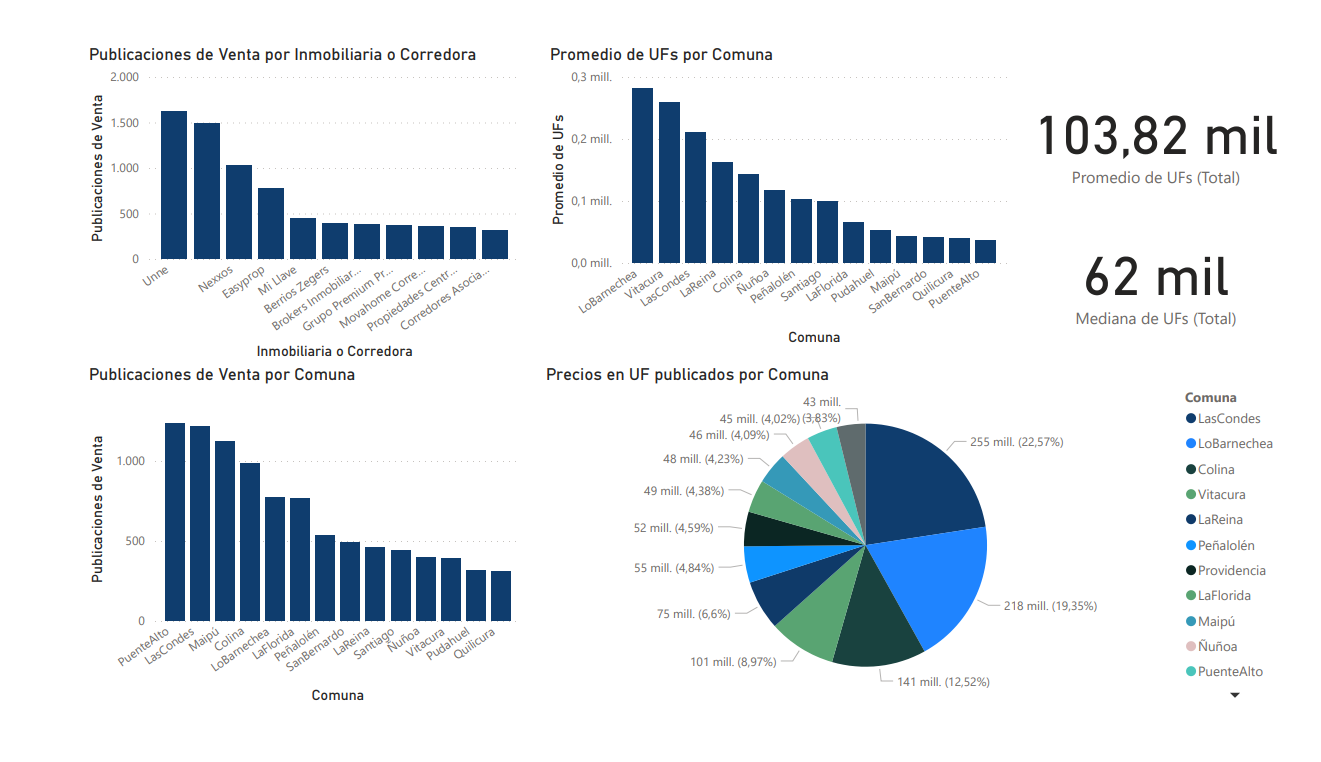

This screenshot's page, from the dashboard's own definition file:
{"tool":"powerbi","page":{"name":"Página 1","canvas":[1280,720],"ordinal":0},"visuals":[{"type":"columnChart","fields":{"Category":["propiedades.Realtor"],"Y":["CountNonNull(propiedades.id)"]},"box":[64.2,23.3,441.6,320],"z":0},{"type":"columnChart","fields":{"Category":["propiedades.Comuna"],"Y":["CountNonNull(propiedades.id)"]},"box":[64.2,343.3,441.6,343.3],"z":1},{"type":"pieChart","fields":{"Category":["propiedades.Comuna"],"Y":["Sum(propiedades.Price_UF)"]},"box":[521.3,343.3,747,343.3],"z":2},{"type":"columnChart","fields":{"Category":["propiedades.Comuna"],"Y":["Avg(propiedades.Price_UF)"]},"box":[525.2,23.3,466.9,305.4],"z":3},{"type":"card","fields":{"Values":["Avg(propiedades.Price_UF)"]},"box":[992.1,46.7,287.9,141],"z":4},{"type":"card","fields":{"Values":["Median(propiedades.Price_UF)"]},"box":[992.1,187.7,287.9,141],"z":5}]}

Visuals, with their boxes in screenshot pixels (x1, y1, x2, y2), scaled from the page's 1280x720 canvas onto the 1321x762 screenshot:
columnChart - propiedades.Realtor x CountNonNull(propiedades.id): 66 25 522 363
columnChart - propiedades.Comuna x CountNonNull(propiedades.id): 66 363 522 727
pieChart - propiedades.Comuna x Sum(propiedades.Price_UF): 538 363 1309 727
columnChart - propiedades.Comuna x Avg(propiedades.Price_UF): 542 25 1024 348
card - Avg(propiedades.Price_UF): 1024 49 1320 199
card - Median(propiedades.Price_UF): 1024 199 1320 348
